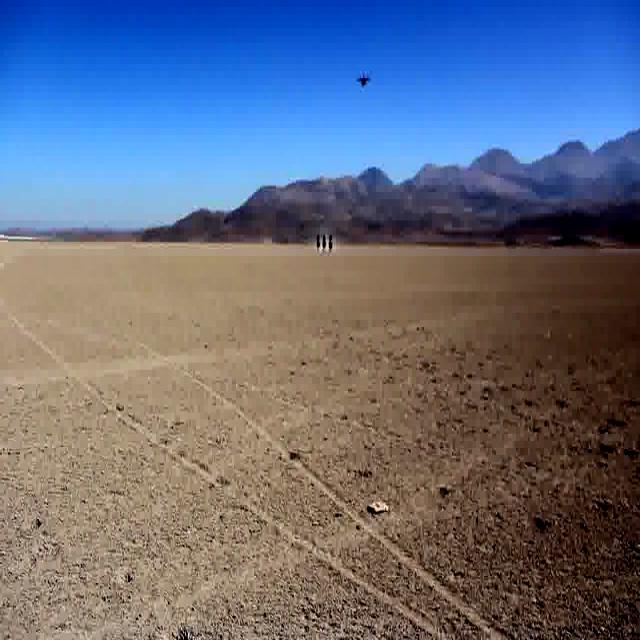drone: (354, 71, 372, 94)
